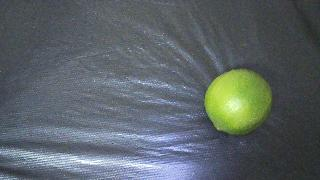LOCAL: (204, 69, 273, 135)
